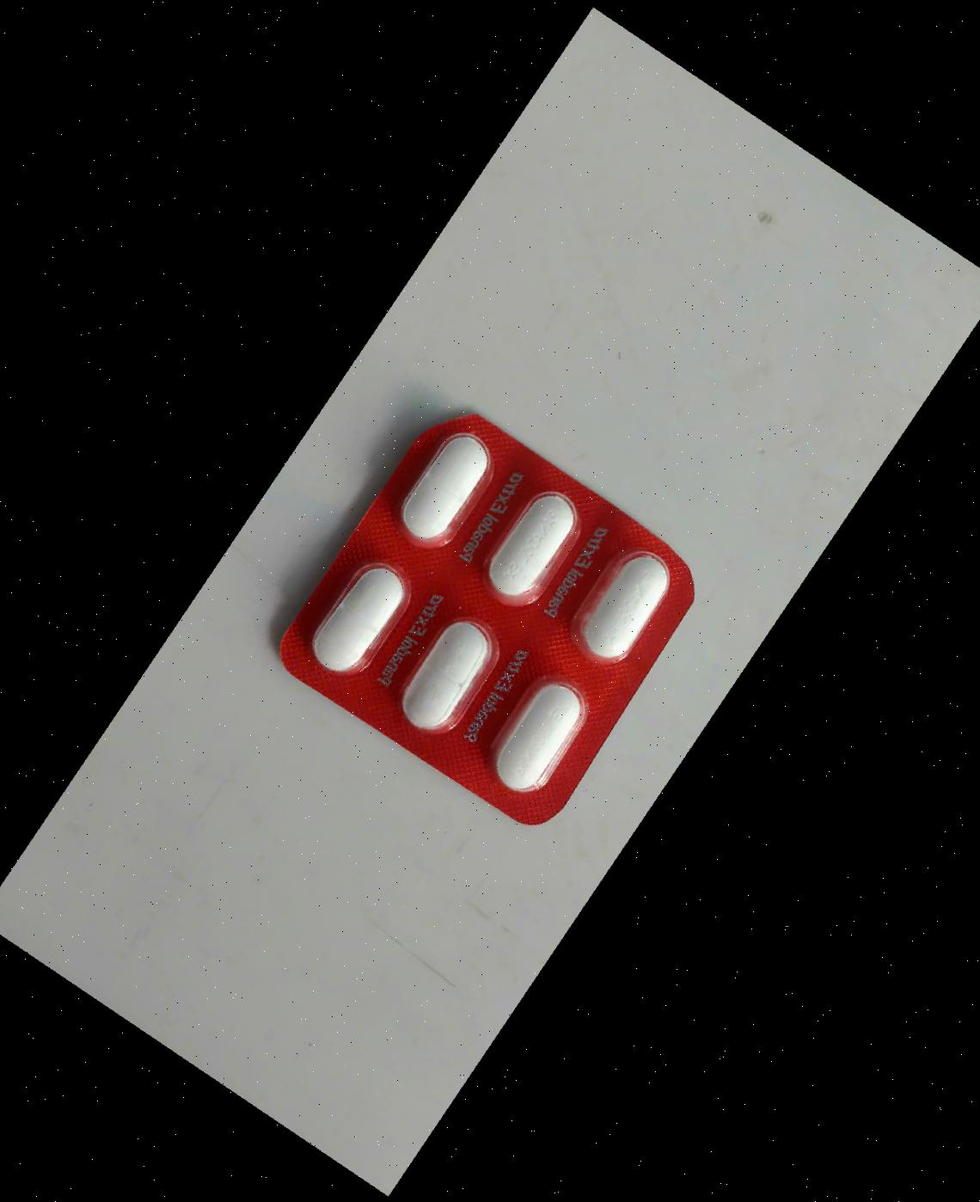Full: (296, 547, 428, 696), (381, 604, 513, 753), (560, 532, 692, 681), (380, 419, 512, 567), (465, 477, 597, 625), (473, 666, 605, 814)
